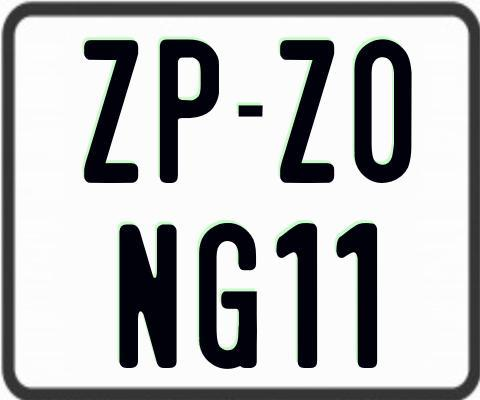0: (353, 36, 413, 180)
1: (274, 223, 318, 374), (336, 223, 380, 372)
G: (197, 220, 255, 369)
N: (117, 222, 178, 367)
P: (159, 38, 221, 185)
Z: (277, 39, 337, 184), (81, 37, 140, 181)
